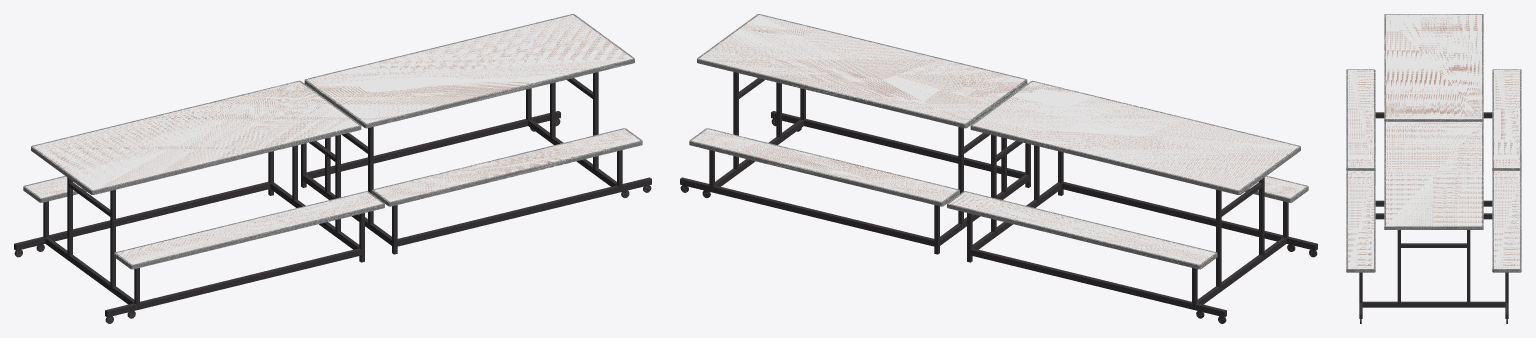
The picture shows the model from 3 angles, left to right: view 1: azimuth 30°, elevation 25°; view 2: azimuth 150°, elevation 25°; view 3: azimuth 270°, elevation 25°; orthographic projection. The views are drawn at different scales.
Visible parts, largest first — view 1: mesh15_mesh15-geometry, mesh40_mesh40-geometry, mesh1_mesh1-geometry, mesh26_mesh26-geometry, mesh13_mesh13-geometry, mesh38_mesh38-geometry, mesh20_mesh20-geometry, mesh45_mesh45-geometry, mesh22_mesh22-geometry, mesh47_mesh47-geometry, mesh6_mesh6-geometry, mesh31_mesh31-geometry (+3 smaller); view 2: mesh15_mesh15-geometry, mesh40_mesh40-geometry, mesh1_mesh1-geometry, mesh26_mesh26-geometry, mesh13_mesh13-geometry, mesh38_mesh38-geometry, mesh20_mesh20-geometry, mesh45_mesh45-geometry, mesh22_mesh22-geometry, mesh47_mesh47-geometry, mesh6_mesh6-geometry, mesh31_mesh31-geometry (+3 smaller); view 3: mesh40_mesh40-geometry, mesh15_mesh15-geometry, mesh26_mesh26-geometry, mesh1_mesh1-geometry, mesh47_mesh47-geometry, mesh45_mesh45-geometry, mesh31_mesh31-geometry, mesh49_mesh49-geometry, mesh22_mesh22-geometry.
Part boxes in pixels (bbox=[...]): mesh15_mesh15-geometry: bbox=[31, 80, 361, 194]; mesh40_mesh40-geometry: bbox=[304, 14, 634, 128]; mesh1_mesh1-geometry: bbox=[23, 176, 384, 269]; mesh26_mesh26-geometry: bbox=[372, 128, 642, 206]; mesh13_mesh13-geometry: bbox=[49, 182, 361, 309]; mesh38_mesh38-geometry: bbox=[306, 119, 618, 246]; mesh20_mesh20-geometry: bbox=[67, 135, 340, 286]; mesh45_mesh45-geometry: bbox=[325, 72, 598, 224]; mesh22_mesh22-geometry: bbox=[45, 182, 359, 304]; mesh47_mesh47-geometry: bbox=[303, 119, 616, 245]; mesh6_mesh6-geometry: bbox=[14, 201, 139, 317]; mesh31_mesh31-geometry: bbox=[526, 88, 651, 192]; mesh15_mesh15-geometry: bbox=[970, 80, 1300, 194]; mesh40_mesh40-geometry: bbox=[697, 14, 1027, 128]; mesh1_mesh1-geometry: bbox=[947, 176, 1308, 269]; mesh26_mesh26-geometry: bbox=[689, 128, 959, 206]; mesh13_mesh13-geometry: bbox=[970, 182, 1282, 309]; mesh38_mesh38-geometry: bbox=[713, 119, 1025, 246]; mesh20_mesh20-geometry: bbox=[991, 135, 1264, 286]; mesh45_mesh45-geometry: bbox=[733, 72, 1006, 224]; mesh22_mesh22-geometry: bbox=[972, 182, 1286, 304]; mesh47_mesh47-geometry: bbox=[715, 119, 1028, 245]; mesh6_mesh6-geometry: bbox=[1192, 201, 1317, 317]; mesh31_mesh31-geometry: bbox=[680, 88, 805, 192]; mesh40_mesh40-geometry: bbox=[1384, 121, 1483, 229]; mesh15_mesh15-geometry: bbox=[1384, 14, 1483, 121]; mesh26_mesh26-geometry: bbox=[1346, 170, 1521, 272]; mesh1_mesh1-geometry: bbox=[1346, 69, 1521, 170]; mesh47_mesh47-geometry: bbox=[1362, 213, 1505, 307]; mesh45_mesh45-geometry: bbox=[1397, 230, 1470, 302]; mesh31_mesh31-geometry: bbox=[1359, 272, 1508, 318]; mesh49_mesh49-geometry: bbox=[1401, 243, 1466, 247]; mesh22_mesh22-geometry: bbox=[1375, 112, 1492, 206].
Bounding box in the file's own units: 0.926 × 0.1982 × 0.3213.
